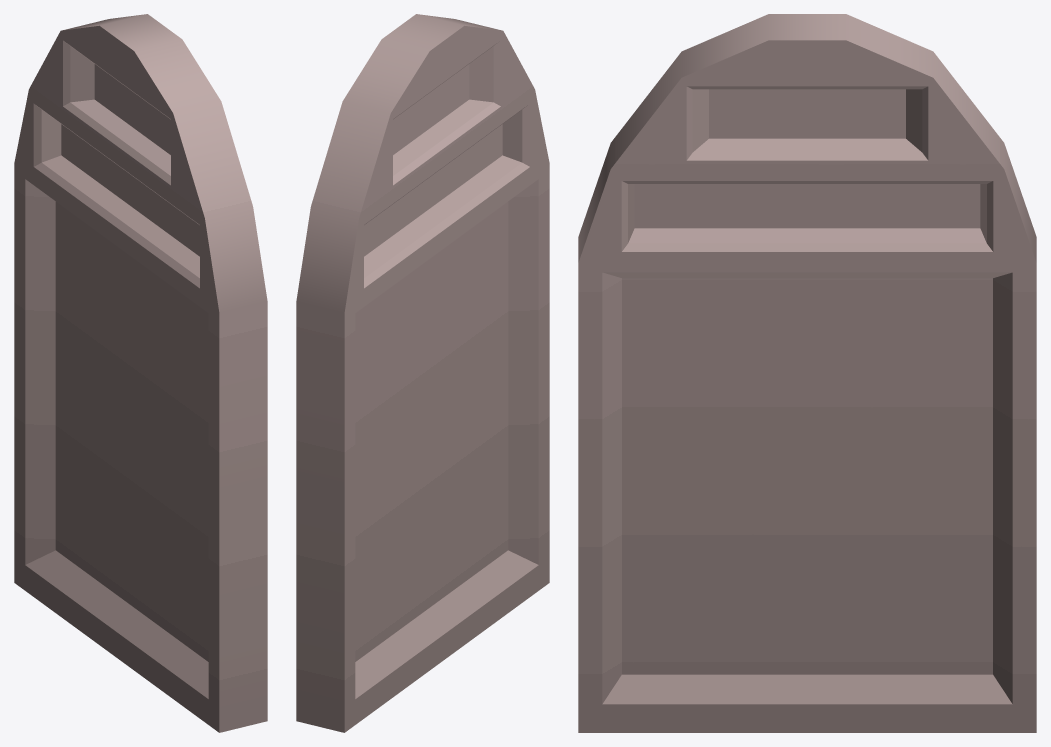
The model's file is SM_Gravestone_00.fbx.
3 renders of one model, left to right at view 1: azimuth 30°, elevation 25°; view 2: azimuth 150°, elevation 25°; view 3: azimuth 270°, elevation 25°, orthographic. The views are drawn at different scales.
Parts seen in each view (by area): view 1: Gravestone_00; view 2: Gravestone_00; view 3: Gravestone_00.
Boxes of the visible parts, x1=… form: Gravestone_00: x1=14, y1=14, x2=267, y2=732; Gravestone_00: x1=296, y1=14, x2=549, y2=732; Gravestone_00: x1=578, y1=14, x2=1036, y2=732.
Bounding box in the file's own units: 16.39 × 201 × 121.
1 material, 1 textured.
